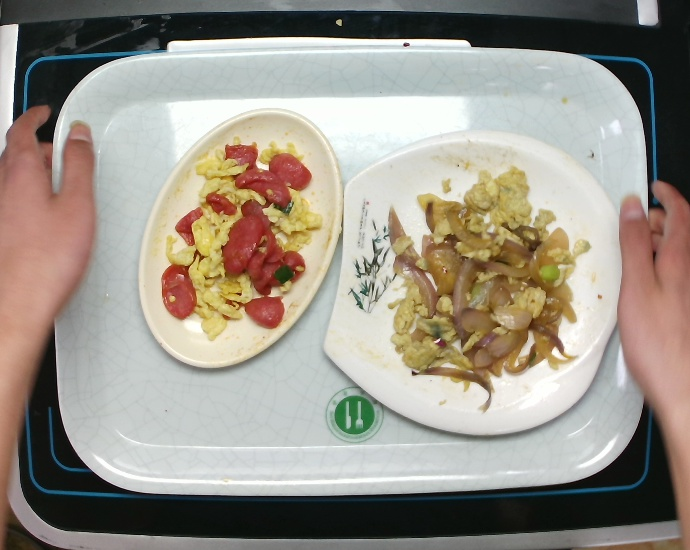JYsf-Mian_Pan: (315, 123, 652, 450)
JYsf-Tuo_Yuan_Wan: (134, 104, 346, 376)
